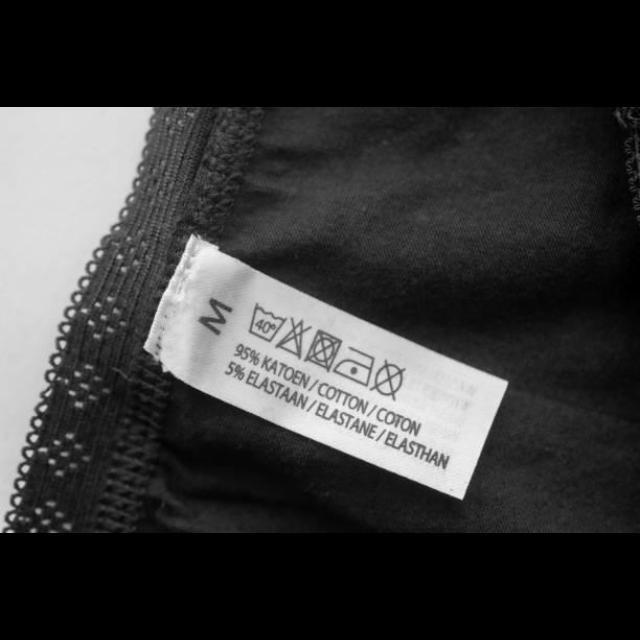40C: (246, 302, 288, 344)
DN_bleach: (274, 316, 314, 362)
DN_dry_clean: (369, 357, 408, 403)
DN_tumble_dry: (302, 328, 346, 374)
iron_low: (331, 344, 375, 390)
